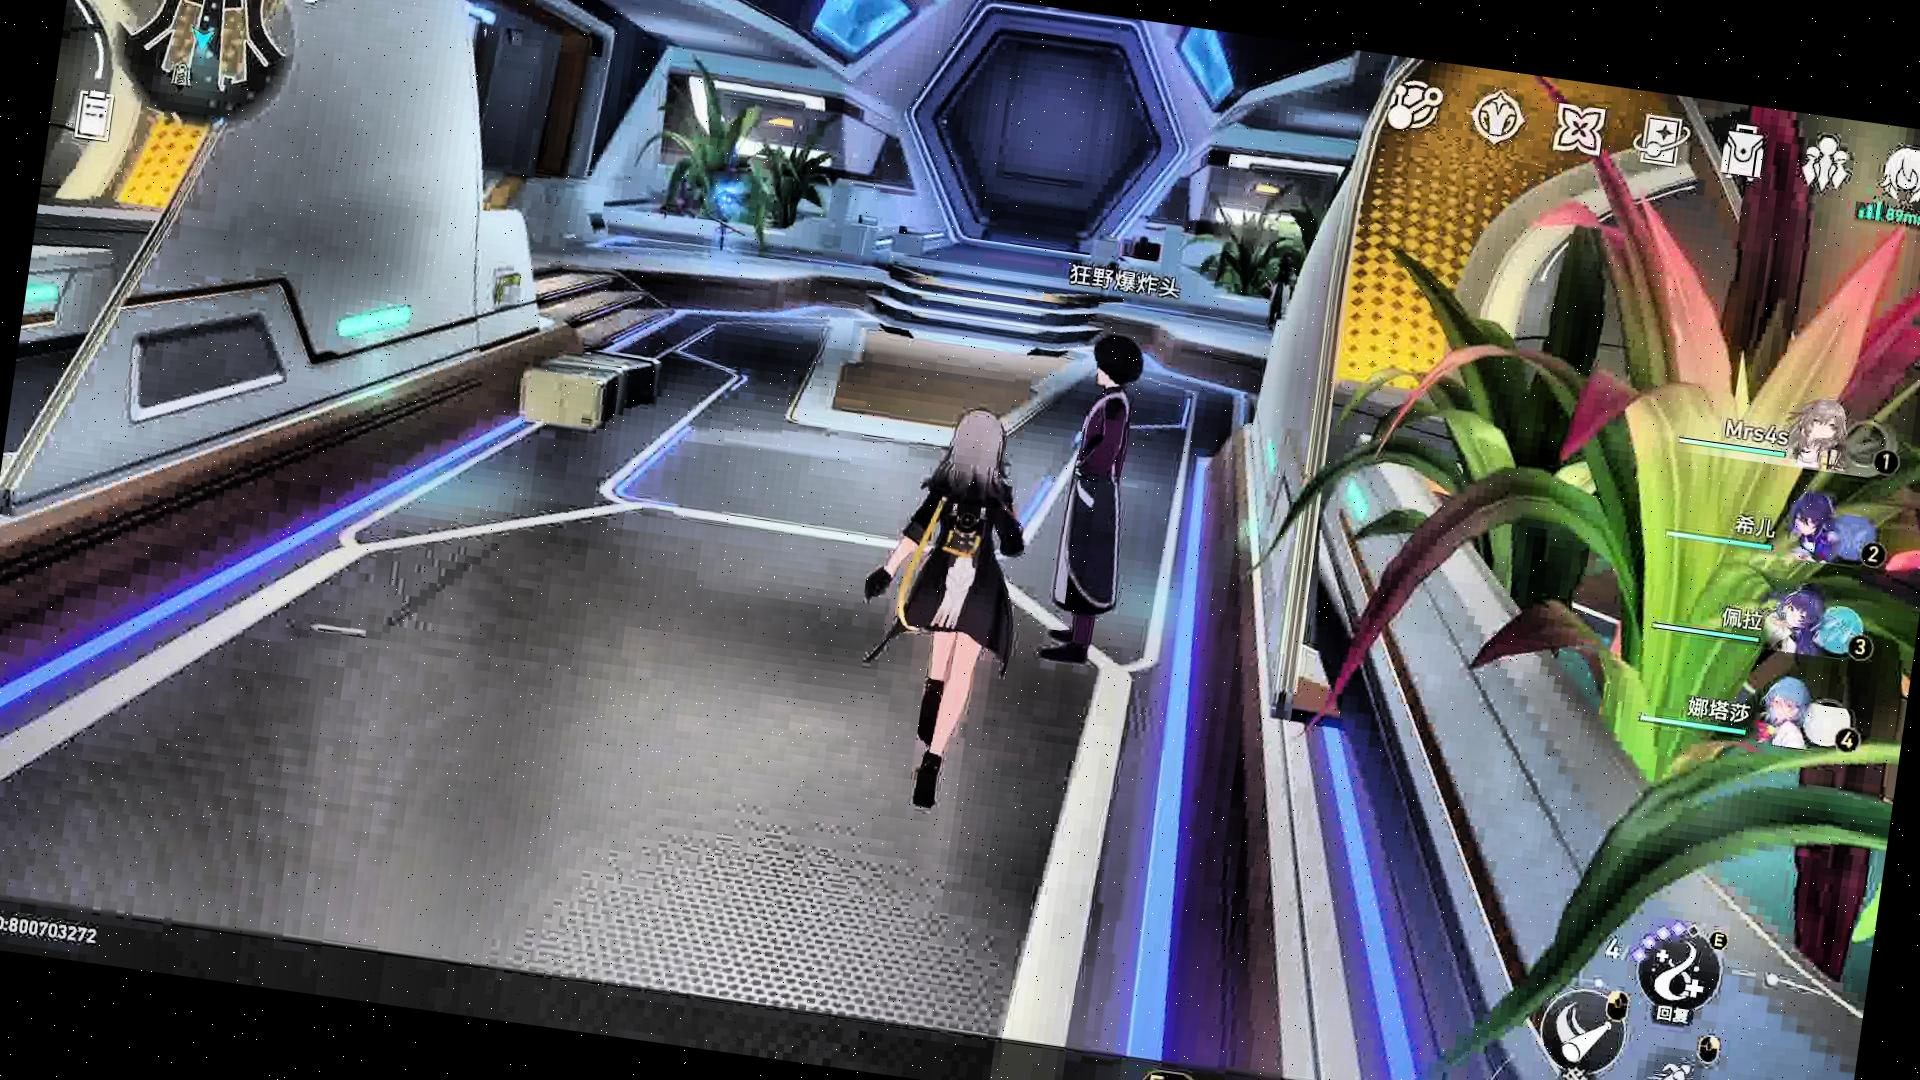Self: (835, 400, 1050, 820)
TeamMate: (1038, 332, 1149, 673)
